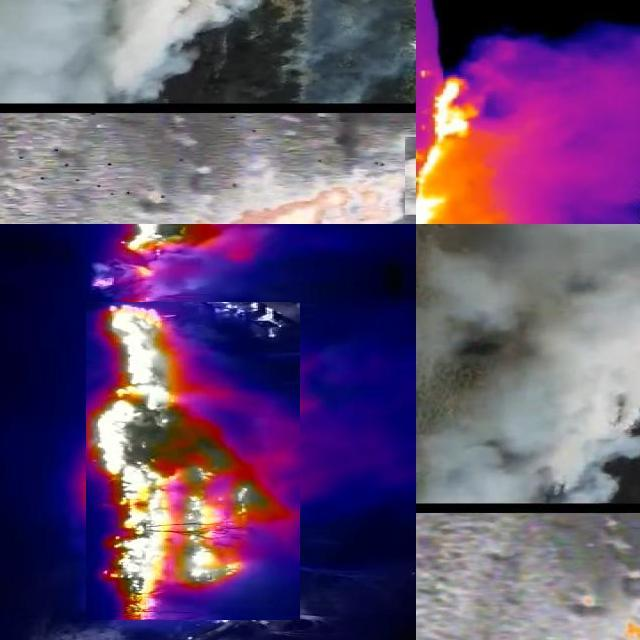fire: (87, 302, 301, 620), (417, 73, 525, 225), (115, 225, 299, 300), (194, 173, 398, 225)
